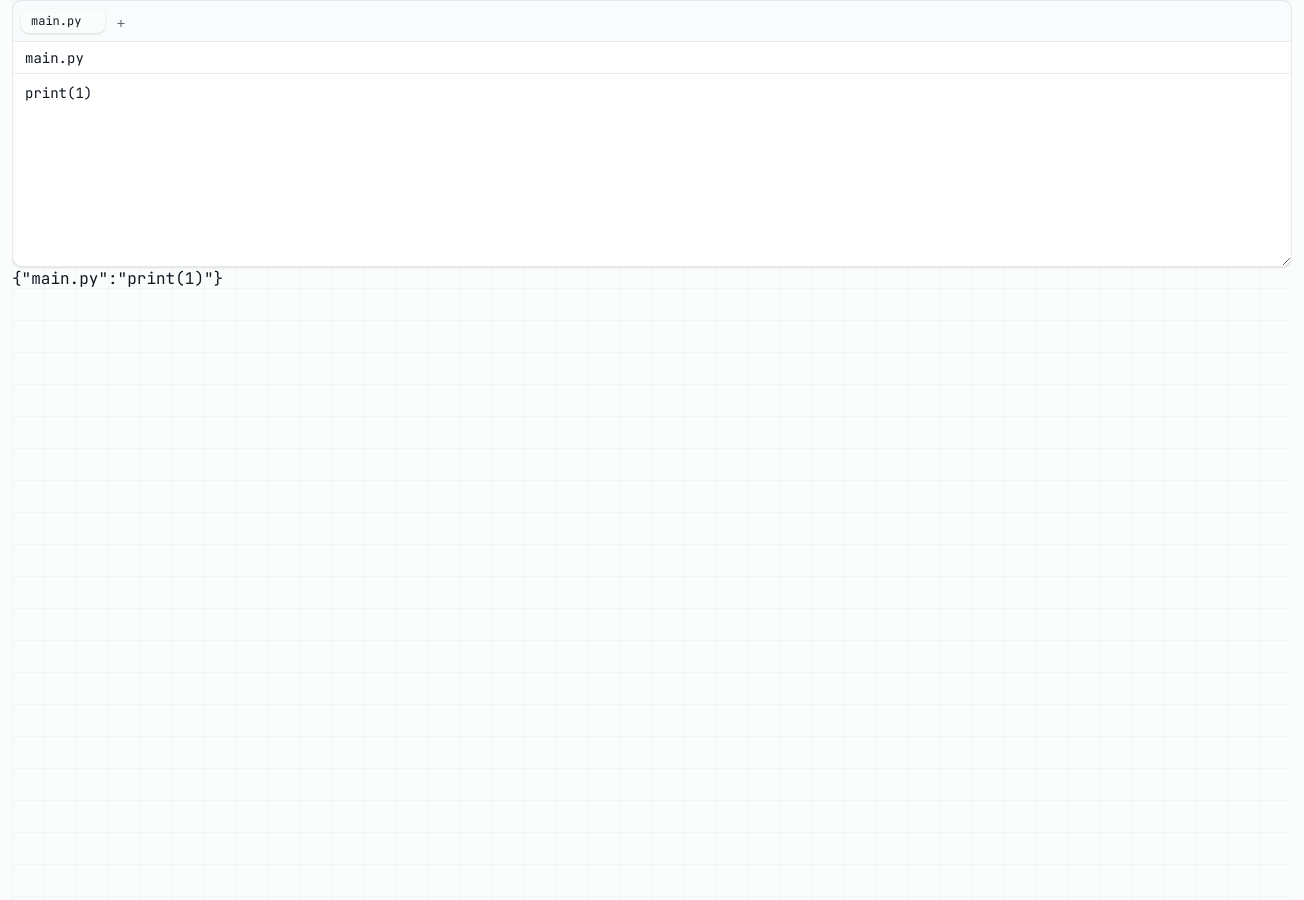
Test: MultiFileEditor › removes the active tab and falls back to a neighbour
Click the button named "dosya ekle" at (121, 21), box 109,7 -> 133,35
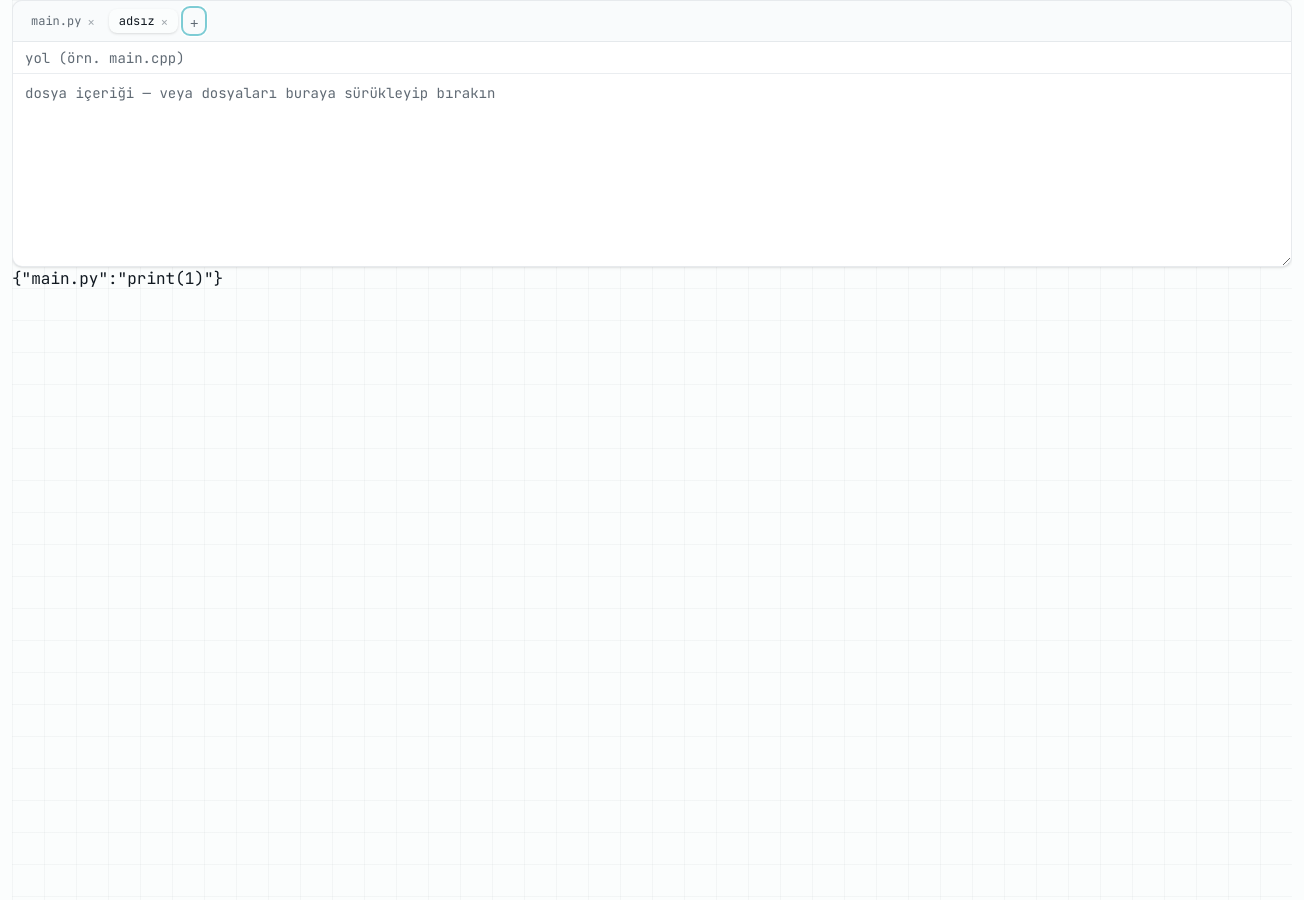
Type "util.py" into the field named "dosya yolu" at (652, 58), box 13,42 -> 1291,74
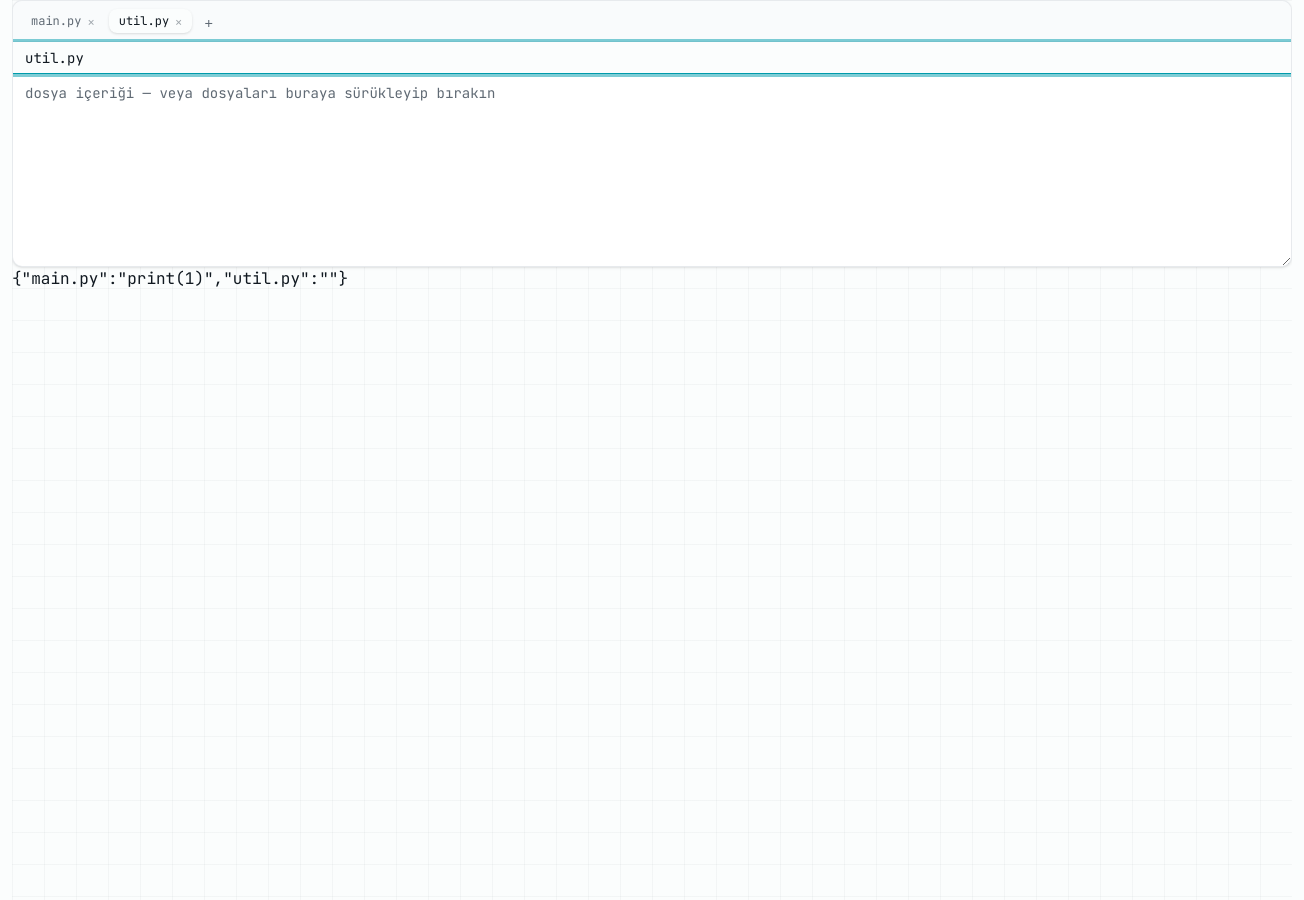
Click the button named "dosyayı sil 1" at (179, 21), box 175,15 -> 182,27
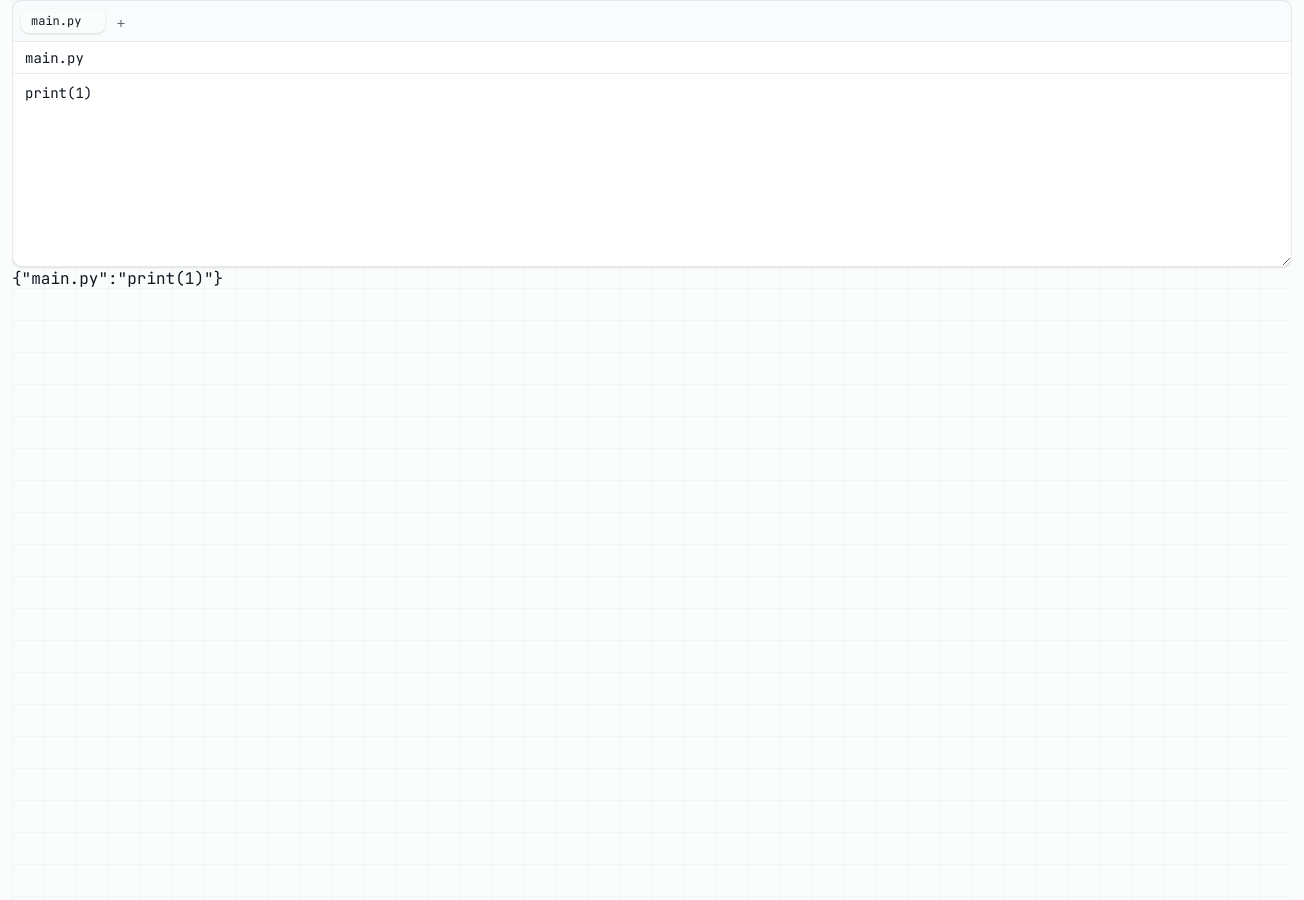
Now the field named "dosya yolu" holds "main.py", box 13,42 -> 1291,74
